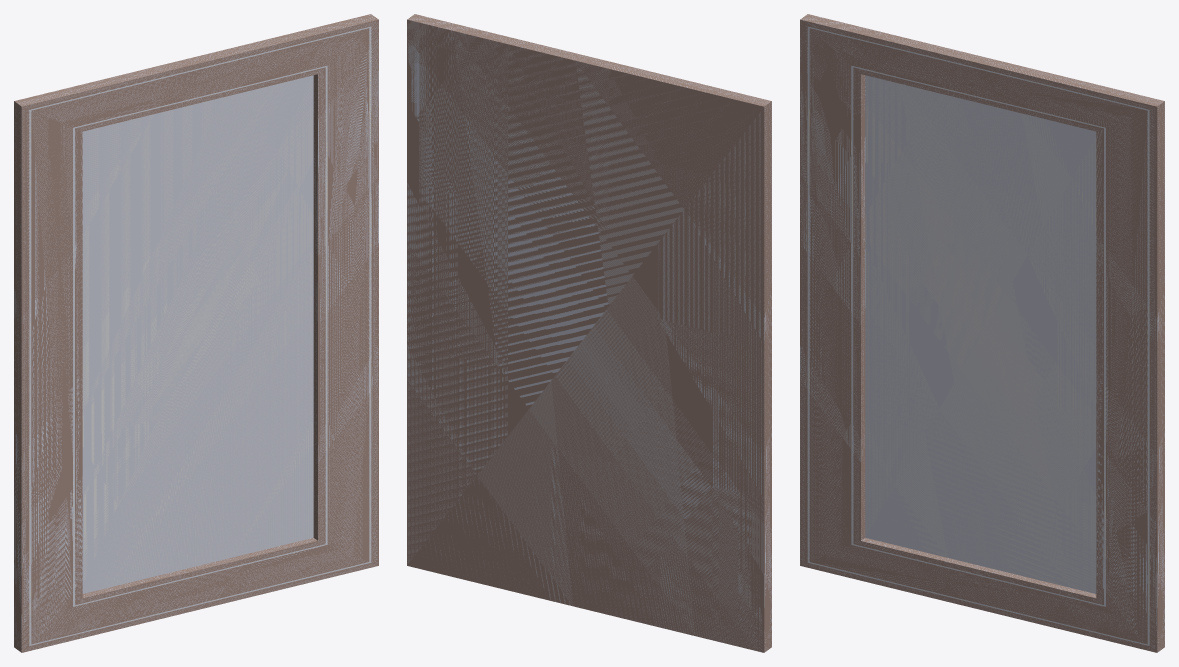
The model's file is mirror.dae.
3 views of the same model, side by side, from view 1: azimuth 30°, elevation 25°; view 2: azimuth 150°, elevation 25°; view 3: azimuth 330°, elevation 25° (orthographic).
Parts seen in each view (by area): view 1: SketchUp.001, SketchUp.006, SketchUp, SketchUp.004, SketchUp.003, SketchUp.002, SketchUp.005; view 2: SketchUp; view 3: SketchUp.001, SketchUp.006, SketchUp, SketchUp.004, SketchUp.003, SketchUp.002, SketchUp.005.
Boxes of the visible parts, x1,y1,x2,y2 form: SketchUp.001: (82, 75, 313, 593); SketchUp.006: (31, 28, 369, 644); SketchUp: (14, 14, 378, 652); SketchUp.004: (75, 67, 325, 604); SketchUp.003: (29, 26, 371, 645); SketchUp.002: (82, 74, 317, 598); SketchUp.005: (73, 65, 327, 606); SketchUp: (407, 14, 771, 652); SketchUp.001: (865, 75, 1096, 593); SketchUp.006: (809, 28, 1147, 644); SketchUp: (800, 14, 1164, 652); SketchUp.004: (853, 67, 1103, 604); SketchUp.003: (807, 26, 1149, 645); SketchUp.002: (861, 74, 1096, 598); SketchUp.005: (851, 65, 1105, 606).
Size of the model in its own units: 0.5969 by 0.0222 by 0.8726.
